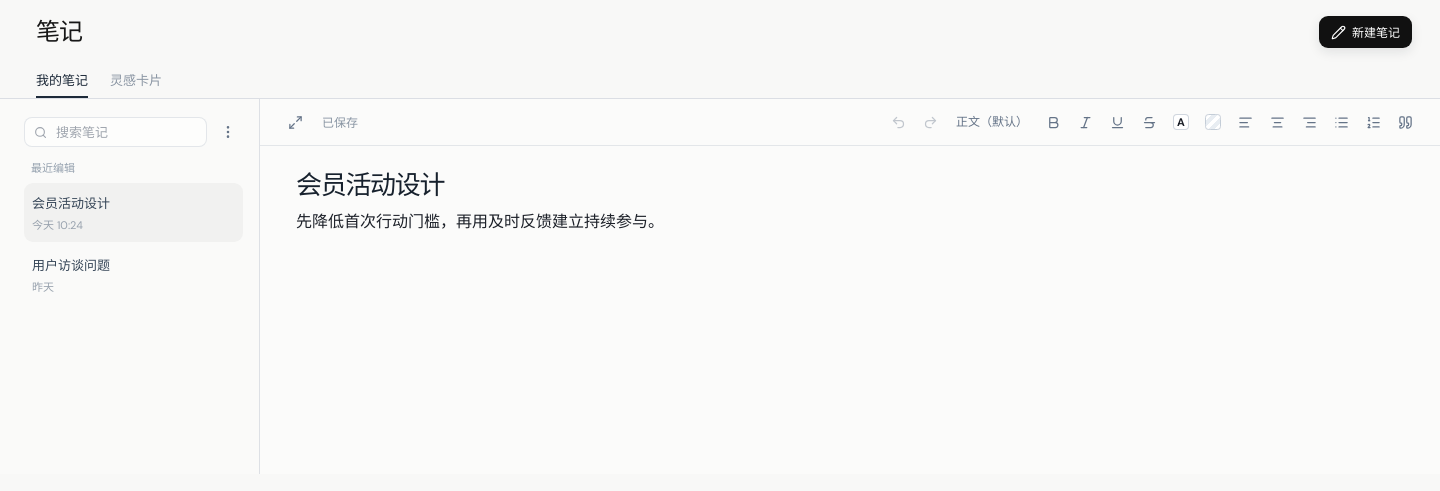
Scenario: NotesWorkspace › keeps inspiration search adjacent to organize with manage and a filter between them
The width and height of the screenshot is (1440, 491).
Click the tab "灵感卡片": click(136, 80) [110,62,162,98]
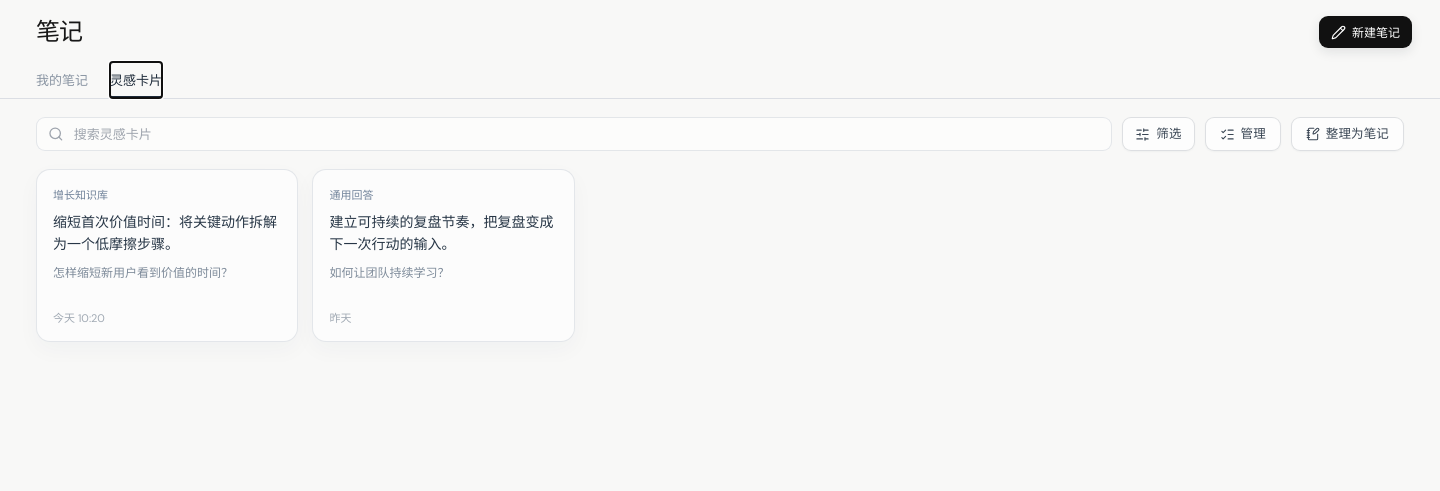
Check: the field labelled "搜索灵感卡片" is shown, box [72,124,1100,144]
Check: the button with aria-label "筛选灵感卡片" is shown
Check: the button "管理" is shown, box [1205,117,1281,151]
Click the button with aria-label "筛选灵感卡片": click(1158, 134) [1122,117,1195,151]
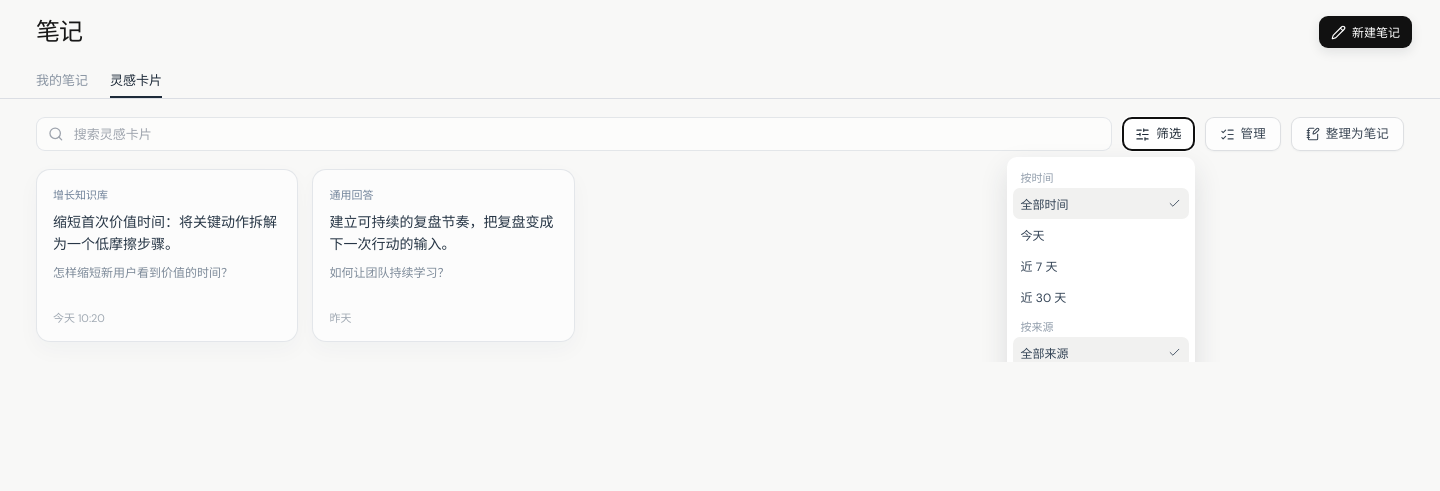
Check: the menu named "灵感卡片筛选" is shown, box [1007,157,1195,362]
Check: the menu item "今天" is shown, box [1013,219,1189,250]
